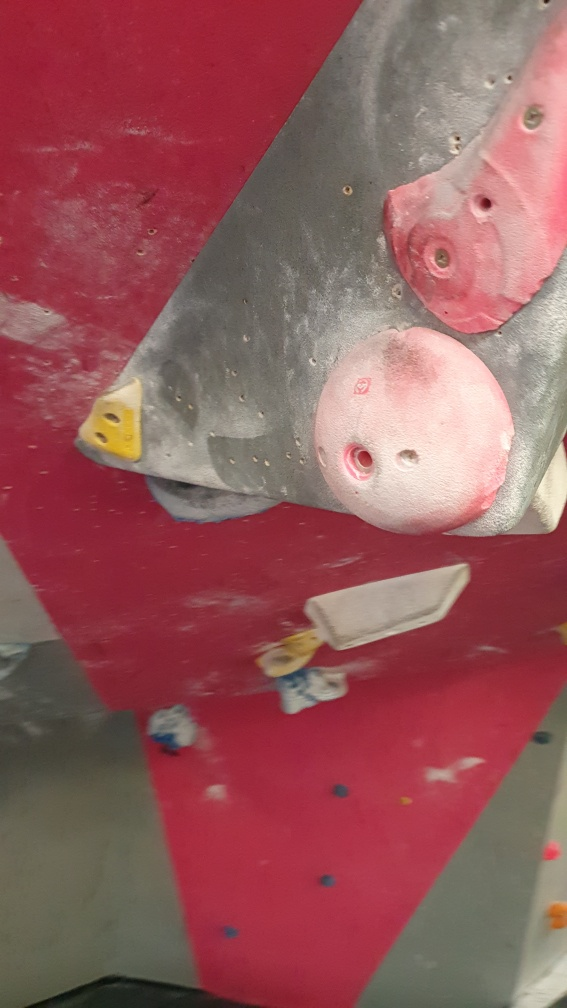Crimp: (79, 381, 153, 466)
Sloper: (309, 332, 517, 537)
